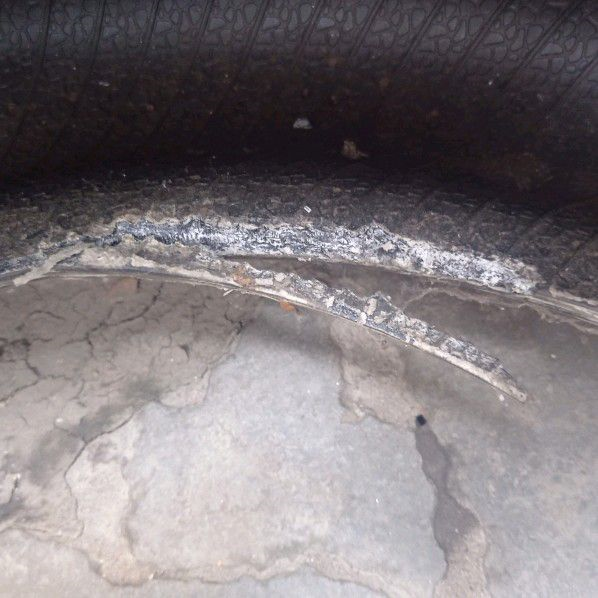bead_damage: (14, 203, 554, 409)
